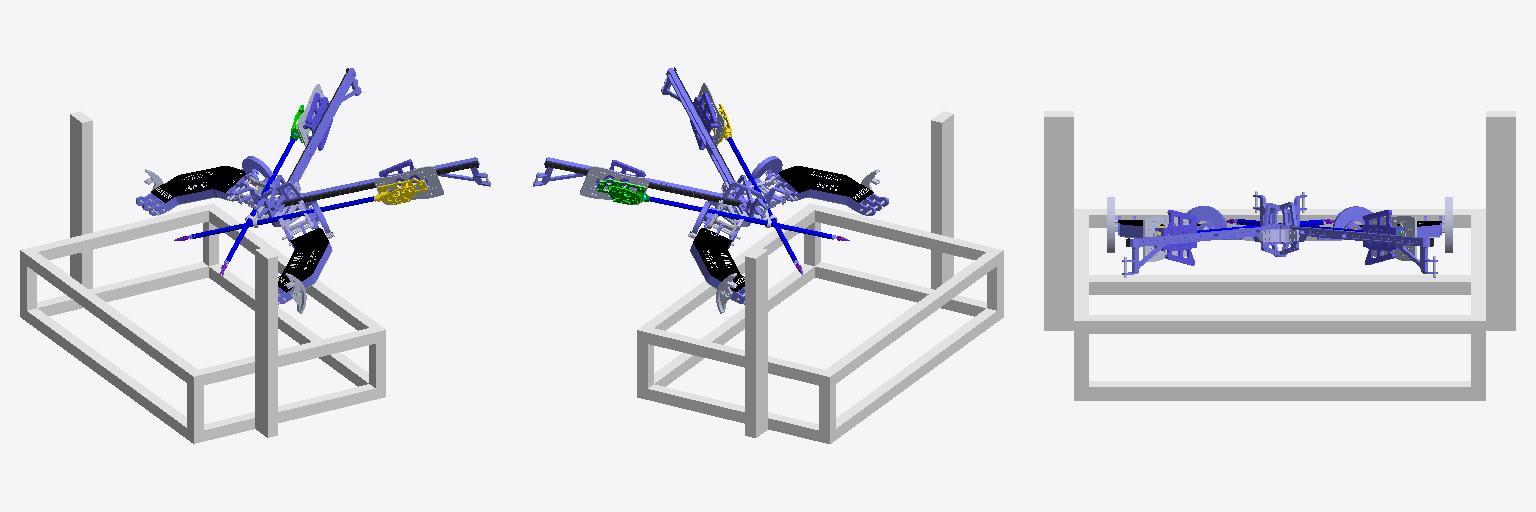
robot.urdf — raven_2:
<robot name="raven_2">

  <link name="world">
   <visual>
     <origin rpy="0 0 0" xyz="0 0 0" />
     <geometry>
       <box size=".001 .001 .001" />
     </geometry>
     <material name="Cyan">
       <color rgba="0 255 255 1.0" />
     </material>
   </visual>
  </link>

  <joint name="world_to_0_link" type="fixed">
    <limit effort="1000.0" lower="0.0" upper="3.1415" velocity="0.5" />
    <origin rpy="0 0 1.5707963267948966" xyz=".211 -.25071 .235" />
    <parent link="world" />
    <child link="0_link" />
  </joint>

  <link name="0_link">
   <visual>
     <origin rpy="0 0 0" xyz="0 0 0" />
     <geometry>
       <box size=".001 .001 .001" />
     </geometry>
     <material name="Cyan">
       <color rgba="0 255 255 1.0" />
     </material>
   </visual>
  </link>


  <joint name="base_mount_L" type="fixed">
    <limit effort="1000.0" lower="0.0" upper="3.1415" velocity="0.5" />
    <origin rpy="0 0 -1.5707963267948966" xyz="0.0 0.00 0" /> 
    
    <parent link="0_link" />
    <child link="base_link_L" />
  </joint>

 <link name="base_link_L">
    <visual>
      <geometry>
        <mesh filename="package://raven_2_params/data/left_arm/base_w_motors.dae" />
      </geometry>
      <origin rpy="0 0 1.57075" xyz="0 0 0" />
    </visual>
  </link>

 <joint name="shoulder_L" type="revolute">
    <axis xyz="0 0 1" />
    <limit effort="1000.0" lower="-3.1415" upper="3.1415" velocity="0.5" />
    <origin rpy="1.5707963267948966 -1.9383641042662245 0" xyz="0.0 0.0 0" /> 
    <parent link="base_link_L" />
    <child link="link1_L" />
  </joint>

  <link name="link1_L">
    <visual>
      <geometry>
        <mesh filename="package://raven_2_params/data/left_arm/link1_w_cover.dae" />
      </geometry>
       
      <origin rpy="0 1.5705 -0.36751734624250643" xyz="0 0 0" />
    </visual>
  </link>

  <joint name="elbow_L" type="revolute">
    <axis xyz="0 0 1" />
    <limit effort="1000.0" lower="-3.1415" upper="3.1415" velocity="0.5" />
    <origin rpy="-1.3088095959974027 0 0" xyz="0.0 0.0 0" />
    <parent link="link1_L" />
    <child link="link2_L" />
  </joint>

  <link name="link2_L">
    <visual>
      <geometry>
        <mesh filename="package://raven_2_params/data/left_arm/link2.dae" />
      </geometry>
      <origin rpy="1.9382395030381792 0.26209318989244951 1.5705100123309776" xyz="0 0 0" />
       
    </visual>
  </link>

  <joint name="insertion_L" type="prismatic">
    <axis xyz="0 0 -1" />
    <limit effort="1000.0" lower="-.17" upper=".1" velocity="0.5" />
    <origin rpy="-0.90695995069604551 0 0" xyz="0 0 0" />
    <parent link="link2_L" />
    <child link="link3_L" />
  </joint>

  <link name="link3_L">
    <visual>
      <geometry>
        <mesh filename="package://raven_2_params/data/left_arm/link3.dae" />
      </geometry>
      <origin rpy="1.9385216811679049 -0.64486672178728399 1.5704503011280697" xyz="0 0 0" />
    </visual>
  </link>

  <joint name="tool_roll_L" type="revolute">
    <axis xyz="0 0 -1" />
    <limit effort="1000.0" lower="-3.1415" upper="3.1415" velocity="0.5" />
    <origin rpy="0 0 -3.141592653589793" xyz="0 0 0" />
    <parent link="link3_L" />
    <child link="instrument_shaft_L" />
  </joint>

  <link name="instrument_shaft_L">
    <visual>
      <geometry>
        <mesh filename="package://raven_2_params/data/left_arm/instrument_shaft.dae" />
      </geometry>
      <origin rpy="1.93852578511 -0.644866720652 -0.7857441885125518" xyz="0.0 0.0 0.0" />
    </visual>
  </link>

  <joint name="wrist_joint_L" type="revolute">
    <axis xyz="0 0 -1" />
    <limit effort="1000.0" lower="-2" upper="2" velocity="0.5" />
    <origin rpy="1.5707963267948966 -1.5707963267948966 1.5707963267948966" xyz="0 0 0" />
    <parent link="instrument_shaft_L" />
    <child link="wrist_L" />
  </joint>

  <link name="wrist_L">
    <visual>
      <geometry>
        <mesh filename="package://raven_2_params/data/left_arm/wrist.dae" />
      </geometry>
      <origin rpy="0.90864182988948561 0.60032410882593512 -0.75472267005191318" xyz="0 0 0" /> 
    </visual>
  </link>

  <joint name="grasper_joint_1_L" type="revolute">
    <axis xyz="0 0 -1" />
    <limit effort="1000.0" lower="-2" upper="2" velocity=".5" />
    <origin rpy="-1.5707963267948966 0 0" xyz="0.012 0 0" />
    <parent link="wrist_L" />
    <child link="grasper1_L" />
  </joint>

  <link name="grasper1_L">
    <visual>
      <geometry>
        <mesh filename="package://raven_2_params/data/left_arm/grasper_1.dae" />
      </geometry>
      <origin rpy="-0.17380227661240275 -0.60079813692467054 -0.75437730271855163" xyz="-0.0120 0 0" />
    </visual>
  </link>

  <joint name="grasper_joint_2_L" type="revolute">
    <axis xyz="0 0 1" />
    <limit effort="1000.0" lower="-2" upper="2" velocity=".5" />
    <origin rpy="-1.5707963267948966 0 0" xyz="0.012 0 0" />
    <parent link="wrist_L" />
    <child link="grasper2_L" />
  </joint>

  <link name="grasper2_L">
    <visual>
      <geometry>
        <mesh filename="package://raven_2_params/data/left_arm/grasper_2.dae" />
      </geometry>
      <origin rpy="-0.17380227661240275 -0.60079813692467054 -0.75437730271855163" xyz="-0.0120 0 0" />
    </visual>
  </link>

  <joint name="grasper_yaw_L" type="revolute">
    <axis xyz="0 0 1" />
    <limit effort="1000.0" lower="-2" upper="2" velocity=".5" />
    <origin rpy="-1.5707963267948966 0 0" xyz="0.012 0 0" />
    <parent link="wrist_L" />
    <child link="tool_base_L" />
  </joint>

  <link name="tool_base_L">
  </link>

  <joint name="tool_base_to_tool_L" type="fixed">
    
  <limit effort="1000.0" lower="0.0" upper="3.1415" velocity="0.5" />
    <origin rpy="0 0 0" xyz="0.01 0 0" />
    <parent link="tool_base_L" />
    <child link="tool_L" />
  </joint>

  <link name="tool_L">
  </link>

  <joint name="tool_base_to_tool_tip_L" type="fixed">
    
    <limit effort="1000.0" lower="0.0" upper="3.1415" velocity="0.5" />
    <origin rpy="0 0 0" xyz="0.02 0 0" />
    <parent link="tool_base_L" />
    <child link="tool_tip_L" />
  </joint>

  <link name="tool_tip_L">
  </link>

  <joint name="grasper1_tip_L" type="fixed">
    
    <limit effort="1000.0" lower="0.0" upper="3.1415" velocity="0.5" />
    <origin rpy="0 0 0" xyz="0.02 0 0" />
    <parent link="grasper1_L" />
    <child link="grasper1_tip_L" />
  </joint>

  <link name="grasper1_tip_L">
  </link>

  <joint name="grasper2_tip_L" type="fixed">
    
    <limit effort="1000.0" lower="0.0" upper="3.1415" velocity="0.5" />
    <origin rpy="0 0 0" xyz="0.02 0 0" />
    <parent link="grasper2_L" />
    <child link="grasper2_tip_L" />
  </joint>

  <link name="grasper2_tip_L">
  </link>



  <joint name="base_mount_R" type="fixed">
    
    <limit effort="1000.0" lower="0.0" upper="3.1415" velocity="0.5" />
    <origin rpy="0 0 1.5707963267948966" xyz="-0.14858 0.002 0" /> 
    
    <parent link="0_link" />
    <child link="base_link_R" />
  </joint>

  <link name="base_link_R">
    <visual>
      <geometry>
        <mesh filename="package://raven_2_params/data/right_arm/base_w_motors.dae" />
      </geometry>
      
      <origin rpy="-0.00013898038469 -4.63289410187e-05 -1.57088897824" xyz="-9.26535896107e-05 -0.999999995708 2.14617192385e-09" />
    </visual>
  </link>

  <joint name="shoulder_R" type="revolute">
    <axis xyz="0 0 -1" />
    <limit effort="1000.0" lower="-3.1415" upper="3.1415" velocity="0.5" />
    <origin rpy="1.5707963267948966 -1.2032285493235686 0" xyz="0 0.0 0" /> 
    <parent link="base_link_R" />
    <child link="link1_R" />
  </joint>

  <link name="link1_R">
    <visual>
      <geometry>
        <mesh filename="package://raven_2_params/data/right_arm/link1_w_cover.dae" />
      </geometry>
      
      <origin rpy="2.03433275024 -1.57058914899 1.47468869829" xyz="1.98807290943e-05 0.000206221723053 0.999999978539" />
    </visual>
  </link>

  <joint name="elbow_R" type="revolute">
    <axis xyz="0 0 -1" />
    <limit effort="1000.0" lower="-3.1415" upper="3.1415" velocity="0.5" />
    <origin rpy="1.3088095959974027 0 0" xyz="0.0 0.0 0" />
    <parent link="link1_R" />
    <child link="link2_R" />
  </joint>

  <link name="link2_R">
    <visual>
      <geometry>
        <mesh filename="package://raven_2_params/data/right_arm/link2.dae" />
      </geometry>
      
      <origin rpy="1.93809147024 -0.261791409649 1.57082132184" xyz="-2.41434158662e-05 0.965927890854 0.258811338793" />
    </visual>
  </link>

  <joint name="insertion_R" type="prismatic">
    <axis xyz="0 0 -1" />
    <limit effort="1000.0" lower="-.17" upper=".1" velocity="0.5" />
    <origin rpy="0.90695995069604551 0 0" xyz="0 0 0" />
    <parent link="link2_R" />
    <child link="link3_R" />
  </joint>

  <link name="link3_R">
    <visual>
      <geometry>
        <mesh filename="package://raven_2_params/data/right_arm/link3.dae" />
      </geometry>
      
      <origin rpy="1.93907616539 0.645143731951 1.57130010476" xyz="-0.000402525303793 0.799013245873 -0.601313288472" />
    </visual>
  </link>

  <joint name="tool_roll_R" type="revolute">
    <axis xyz="0 0 1" />
    <limit effort="1000.0" lower="-3.1415" upper="3.1415" velocity="0.5" />
    
    <origin rpy="0 0 0" xyz="0 0 0" />
    <parent link="link3_R" />
    <child link="instrument_shaft_R" />
  </joint>

  <link name="instrument_shaft_R">
    <visual>
      <geometry>
        <mesh filename="package://raven_2_params/data/right_arm/instrument_shaft.dae" />
      </geometry>
      
      <origin rpy="1.93821764248 0.645076330724 -2.35620693036" xyz="-0.565023442192 -0.565009384393 -0.601259432626" />
    </visual>
  </link>

  <joint name="wrist_joint_R" type="revolute">
    <axis xyz="0 0 1" />
    <limit effort="1000.0" lower="-2" upper="2" velocity="0.5" />
      
    <origin rpy="1.5707963267948966 -1.5707963267948966 1.5707963267948966" xyz="0 0 0" />  
    <parent link="instrument_shaft_R" />
    <child link="wrist_R" />
  </joint>

  <link name="wrist_R">
    <visual>
      <geometry>
        <mesh filename="package://raven_2_params/data/right_arm/wrist.dae" />
      </geometry>
      
      <origin rpy="-2.23281531126 0.600461665504 2.38726655591" xyz="-0.601259432626 0.565009384393 -0.565023442192" />
    </visual>
  </link>

  <joint name="grasper_joint_1_R" type="revolute">
    <axis xyz="0 0 1" />
    <limit effort="1000.0" lower="-2" upper="2" velocity=".5" />
    <origin rpy="-1.5707963267948966 0 0" xyz="0.012 0 0" />
    <parent link="wrist_R" />
    <child link="grasper1_R" />
  </joint>

  <link name="grasper1_R">
    <visual>
      <geometry>
        <mesh filename="package://raven_2_params/data/right_arm/grasper_1.dae" />
      </geometry>
    
      
      <origin rpy="0.173805770199 0.600177649595 -2.03759014443" xyz="-0.382928137328 -0.738961284047 -0.567341597897" />
    </visual>
  </link>

  <joint name="grasper_joint_2_R" type="revolute">
    <axis xyz="0 0 1" />
    <limit effort="1000.0" lower="-2" upper="2" velocity=".5" />
    <origin rpy="1.5707963267948966 0 0" xyz="0.012 0 0" />
    <parent link="wrist_R" />
    <child link="grasper2_R" />
  </joint>

  <link name="grasper2_R">
    <visual>
      <geometry>
        <mesh filename="package://raven_2_params/data/right_arm/grasper_2.dae" />
      </geometry>
      
      <origin rpy="2.9678042168 -0.600183874305 2.38726263225" xyz="-0.613371572865 0.565118262334 0.564792784622" />
    </visual>
  </link>

  <joint name="grasper_yaw_R" type="revolute">
    <axis xyz="0 0 1" />
    <limit effort="1000.0" lower="-2" upper="2" velocity=".5" />
    <origin rpy="-1.5707963267948966 0 0" xyz="0.012 0 0" />
    <parent link="wrist_R" />
    <child link="tool_base_R" />
  </joint>

  <link name="tool_base_R">
  </link>

  <joint name="tool_base_to_tool_R" type="fixed">
    
    <limit effort="1000.0" lower="0.0" upper="3.1415" velocity="0.5" />
    <origin rpy="0 0 0" xyz="0.01 0 0" />
    <parent link="tool_base_R" />
    <child link="tool_R" />
  </joint>

  <link name="tool_R">
  </link>

  <joint name="tool_base_to_tool_tip_R" type="fixed">
    
    <limit effort="1000.0" lower="0.0" upper="3.1415" velocity="0.5" />
    <origin rpy="0 0 0" xyz="0.02 0 0" />
    <parent link="tool_base_R" />
    <child link="tool_tip_R" />
  </joint>

  <link name="tool_tip_R">
  </link>

  <joint name="grasper1_tip_R" type="fixed">
    
    <limit effort="1000.0" lower="0.0" upper="3.1415" velocity="0.5" />
    <origin rpy="0 0 0" xyz="0.02 0 0" />
    <parent link="grasper1_R" />
    <child link="grasper1_tip_R" />
  </joint>

  <link name="grasper1_tip_R">
  </link>

  <joint name="grasper2_tip_R" type="fixed">
    
    <limit effort="1000.0" lower="0.0" upper="3.1415" velocity="0.5" />
    <origin rpy="0 0 0" xyz="0.02 0 0" />
    <parent link="grasper2_R" />
    <child link="grasper2_tip_R" />
  </joint>

  <link name="grasper2_tip_R">
  </link>



  <material name="8020_frame">
    <color rgba="127 127 127 0.5" />
  </material>

  <link name="frame_bottom_F">
   <visual>
     <origin rpy="0 0 0" xyz="0 0 0" />
     <geometry>
       <box size="0.7 0.025 0.025" />
     </geometry>
     <material name="8020_frame">
       <color rgba="127 127 127 0.5" />
     </material>
   </visual>
  </link>
  <joint name="frame_pose_bottom_F" type="fixed">
    <origin rpy="0 0 -1.5707963267948966" xyz="-0.0125 -0.325 0.0125" />
    <parent link="world" />
    <child link="frame_bottom_F" />
  </joint>

  <link name="frame_bottom_L">
   <visual>
     <origin rpy="0 0 0" xyz="0 0 0" />
     <geometry>
       <box size="0.40 0.025 0.025" />
     </geometry>
     <material name="8020_frame">
       <color rgba="127 127 127 0.5" />
     </material>
   </visual>
  </link>
  <joint name="frame_pose_bottom_L" type="fixed">
    <origin rpy="0 0 0" xyz="0.20 0.0125 0.0125" />
    <parent link="world" />
    <child link="frame_bottom_L" />
  </joint>

  <link name="frame_bottom_R">
   <visual>
     <origin rpy="0 0 0" xyz="0 0 0" />
     <geometry>
       <box size="0.40 0.025 0.025" />
     </geometry>
     <material name="8020_frame">
       <color rgba="127 127 127 0.5" />
     </material>
   </visual>
  </link>
  <joint name="frame_pose_bottom_R" type="fixed">
    <origin rpy="0 0 0" xyz="0.20 -0.6625 0.0125" />
    <parent link="world" />
    <child link="frame_bottom_R" />
  </joint>

  <link name="frame_bottom_B">
   <visual>
     <origin rpy="0 0 0" xyz="0 0 0" />
     <geometry>
       <box size="0.70 0.025 0.025" />
     </geometry>
     <material name="8020_frame">
       <color rgba="127 127 127 0.5" />
     </material>
   </visual>
  </link>
  <joint name="frame_pose_bottom_B" type="fixed">
    <origin rpy="0 0 -1.5707963267948966" xyz="0.4125 -0.325 0.0125" />
    <parent link="world" />
    <child link="frame_bottom_B" />
  </joint>

  <link name="frame_vertical_LF">
   <visual>
     <origin rpy="0 0 0" xyz="0 0 0" />
     <geometry>
       <box size="0.10 0.025 0.025" />
     </geometry>
     <material name="8020_frame">
       <color rgba="127 127 127 0.5" />
     </material>
   </visual>
  </link>
  <joint name="frame_pose_vertical_LF" type="fixed">
    <origin rpy="0 -1.5707963267948966 0" xyz="-0.0125 0.0125 0.075" />
    <parent link="world" />
    <child link="frame_vertical_LF" />
  </joint>

  <link name="frame_vertical_RF">
   <visual>
     <origin rpy="0 0 0" xyz="0 0 0" />
     <geometry>
       <box size="0.10 0.025 0.025" />
     </geometry>
     <material name="8020_frame">
       <color rgba="127 127 127 0.5" />
     </material>
   </visual>
  </link>
  <joint name="frame_pose_vertical_RF" type="fixed">
    <origin rpy="0 -1.5707963267948966 0" xyz="-0.0125 -0.6625 0.075" />
    <parent link="world" />
    <child link="frame_vertical_RF" />
  </joint>

  <link name="frame_vertical_LB">
   <visual>
     <origin rpy="0 0 0" xyz="0 0 0" />
     <geometry>
       <box size="0.10 0.025 0.025" />
     </geometry>
     <material name="8020_frame">
       <color rgba="127 127 127 0.5" />
     </material>
   </visual>
  </link>
  <joint name="frame_pose_vertical_LB" type="fixed">
    <origin rpy="0 -1.5707963267948966 0" xyz="0.4125 0.0125 0.075" />
    <parent link="world" />
    <child link="frame_vertical_LB" />
  </joint>

  <link name="frame_vertical_RB">
   <visual>
     <origin rpy="0 0 0" xyz="0 0 0" />
     <geometry>
       <box size="0.10 0.025 0.025" />
     </geometry>
     <material name="8020_frame">
       <color rgba="127 127 127 0.5" />
     </material>
   </visual>
  </link>
  <joint name="frame_pose_vertical_RB" type="fixed">
    <origin rpy="0 -1.5707963267948966 0" xyz="0.4125 -0.6625 0.075" />
    <parent link="world" />
    <child link="frame_vertical_RB" />
  </joint>

  <link name="frame_top_F">
   <visual>
     <origin rpy="0 0 0" xyz="0 0 0" />
     <geometry>
       <box size="0.7 0.025 0.025" />
     </geometry>
     <material name="8020_frame">
       <color rgba="127 127 127 0.5" />
     </material>
   </visual>
  </link>
  <joint name="frame_pose_top_F" type="fixed">
    <origin rpy="0 0 -1.5707963267948966" xyz="-0.0125 -0.325 0.1375" />
    <parent link="world" />
    <child link="frame_top_F" />
  </joint>

  <link name="frame_top_L">
   <visual>
     <origin rpy="0 0 0" xyz="0 0 0" />
     <geometry>
       <box size="0.40 0.025 0.025" />
     </geometry>
     <material name="8020_frame">
       <color rgba="127 127 127 0.5" />
     </material>
   </visual>
  </link>
  <joint name="frame_pose_top_L" type="fixed">
    <origin rpy="0 0 0" xyz="0.20 0.0125 0.1375" />
    <parent link="world" />
    <child link="frame_top_L" />
  </joint>

  <link name="frame_top_R">
   <visual>
     <origin rpy="0 0 0" xyz="0 0 0" />
     <geometry>
       <box size="0.40 0.025 0.025" />
     </geometry>
     <material name="8020_frame">
       <color rgba="127 127 127 0.5" />
     </material>
   </visual>
  </link>
  <joint name="frame_pose_top_R" type="fixed">
    <origin rpy="0 0 0" xyz="0.20 -0.6625 0.1375" />
    <parent link="world" />
    <child link="frame_top_R" />
  </joint>

  <link name="frame_top_B">
   <visual>
     <origin rpy="0 0 0" xyz="0 0 0" />
     <geometry>
       <box size="0.70 0.025 0.025" />
     </geometry>
     <material name="8020_frame">
       <color rgba="127 127 127 0.5" />
     </material>
   </visual>
  </link>
  <joint name="frame_pose_top_B" type="fixed">
    <origin rpy="0 0 -1.5707963267948966" xyz="0.4125 -0.325 0.1375" />
    <parent link="world" />
    <child link="frame_top_B" />
  </joint>

  <link name="frame_base_support_L">
   <visual>
     <origin rpy="0 0 0" xyz="0 0 0" />
     <geometry>
       <box size="0.4 0.05 0.025" />
     </geometry>
     <material name="8020_frame">
       <color rgba="127 127 127 0.5" />
     </material>
   </visual>
  </link>
  <joint name="frame_pose_base_support_L" type="fixed">
    <origin rpy="0 -1.5707963267948966 0" xyz="0.1315 0.05 0.2" />
    <parent link="world" />
    <child link="frame_base_support_L" />
  </joint>

  <link name="frame_base_support_R">
   <visual>
     <origin rpy="0 0 0" xyz="0 0 0" />
     <geometry>
       <box size="0.4 0.05 0.025" />
     </geometry>
     <material name="8020_frame">
       <color rgba="127 127 127 0.5" />
     </material>
   </visual>
  </link>
  <joint name="frame_pose_base_support_R" type="fixed">
    <origin rpy="0 -1.5707963267948966 0" xyz="0.1315 -0.7 0.2" />
    <parent link="world" />
    <child link="frame_base_support_R" />
  </joint>

  </robot>

--- Facts derived from the render (not from the file) ---
Views: 3 orthographic renders of the robot side by side, from view 1: azimuth 30°, elevation 25°; view 2: azimuth 150°, elevation 25°; view 3: azimuth 270°, elevation 25°.
Robot: raven_2 — 42 links, 41 joints (14 revolute, 2 prismatic, 25 fixed); root link world; default pose: every joint at zero.
Visible links, largest first — view 1: frame_base_support_R, frame_top_F, frame_bottom_F, frame_base_support_L, link1_L, link2_L, link2_R, frame_top_L, link1_R, frame_top_B, frame_top_R, frame_bottom_B (+10 smaller); view 2: frame_base_support_L, frame_top_F, frame_bottom_F, frame_base_support_R, link1_R, link2_R, link2_L, frame_top_R, link1_L, frame_top_B, frame_bottom_B, frame_top_L (+10 smaller); view 3: frame_bottom_B, frame_top_B, frame_bottom_F, frame_base_support_L, frame_base_support_R, link2_L, link2_R, frame_top_F, link3_L, link3_R, frame_top_L, frame_top_R (+4 smaller).
Link boxes in pixels (x1,y1,x2,y2): frame_base_support_R: [255, 247, 277, 437]; frame_top_F: [20, 248, 203, 387]; frame_bottom_F: [20, 306, 203, 443]; frame_base_support_L: [70, 111, 92, 288]; link1_L: [136, 166, 258, 215]; link2_L: [235, 156, 490, 227]; link2_R: [245, 68, 361, 238]; frame_top_L: [31, 206, 208, 259]; link1_R: [278, 218, 334, 313]; frame_top_B: [204, 203, 385, 342]; frame_top_R: [199, 328, 375, 384]; frame_bottom_B: [209, 264, 385, 399]; frame_base_support_L: [745, 247, 767, 437]; frame_top_F: [819, 248, 1003, 387]; frame_bottom_F: [819, 306, 1003, 443]; frame_base_support_R: [931, 111, 953, 289]; link1_R: [765, 166, 888, 215]; link2_R: [533, 156, 789, 227]; link2_L: [661, 67, 777, 238]; frame_top_R: [815, 206, 991, 259]; link1_L: [688, 218, 744, 313]; frame_top_B: [637, 203, 819, 343]; frame_bottom_B: [637, 264, 814, 399]; frame_top_L: [648, 328, 824, 385]; frame_bottom_B: [1074, 381, 1485, 400]; frame_top_B: [1074, 315, 1485, 333]; frame_bottom_F: [1089, 275, 1470, 294]; frame_base_support_L: [1486, 111, 1515, 330]; frame_base_support_R: [1044, 111, 1073, 330]; link2_L: [1122, 192, 1372, 277]; link2_R: [1186, 191, 1437, 277]; frame_top_F: [1074, 209, 1485, 227]; link3_L: [1143, 210, 1196, 265]; link3_R: [1362, 210, 1416, 264]; frame_top_L: [1471, 215, 1485, 314]; frame_top_R: [1074, 215, 1088, 314].
Size in the robot's own frame: 0.745 by 0.8 by 0.4299 metres.
Meshes: 16 distinct files referenced, 14 mesh visuals loaded (14 Collada DAE); not drawn: 2 (reference not matched to a file when rendering).